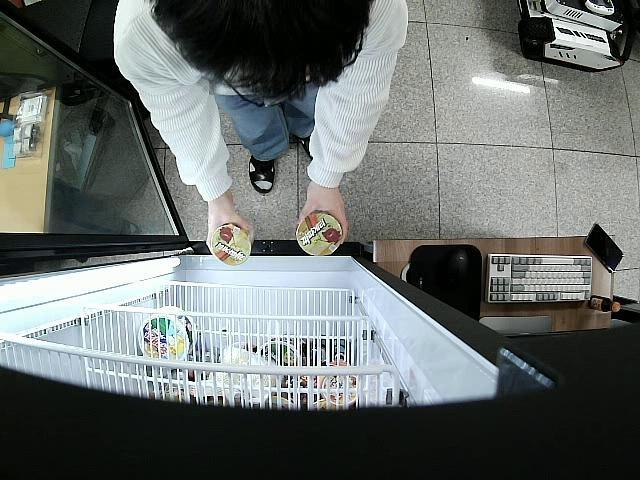04_chapagetti_S: (296, 214, 342, 260), (211, 223, 252, 266)
